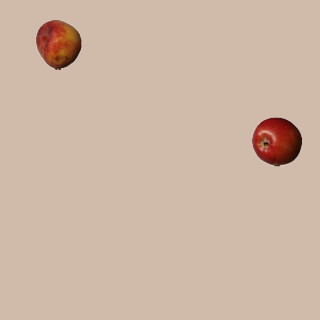Apple Braeburn: (251, 116, 301, 166)
Peach: (33, 19, 83, 69)
